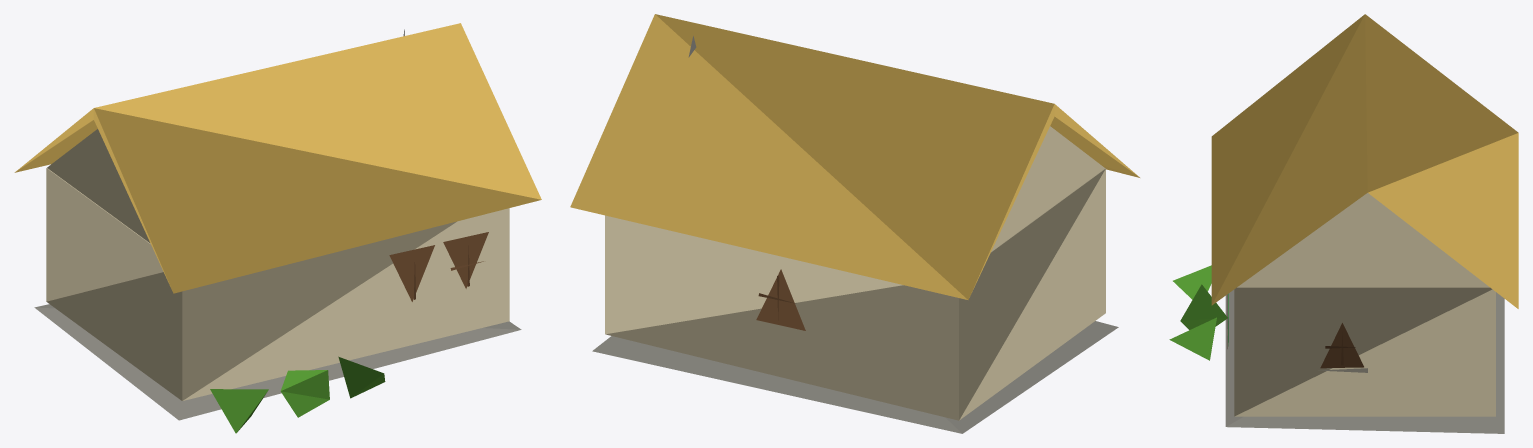
File: hobbit_cottage_1_lod2.glb
The picture shows the model from 3 angles, left to right: view 1: azimuth 30°, elevation 25°; view 2: azimuth 150°, elevation 25°; view 3: azimuth 270°, elevation 25°; orthographic projection. The views are drawn at different scales.
Visible parts, largest first — view 1: hobbit_cottage_1_lod2; view 2: hobbit_cottage_1_lod2; view 3: hobbit_cottage_1_lod2.
Part boxes in pixels (left/top/right/bottom): hobbit_cottage_1_lod2: left=14, top=23, right=541, bottom=433; hobbit_cottage_1_lod2: left=570, top=14, right=1139, bottom=433; hobbit_cottage_1_lod2: left=1169, top=14, right=1518, bottom=433.
Size of the model in its own units: 7.2 by 5.27 by 6.14.
